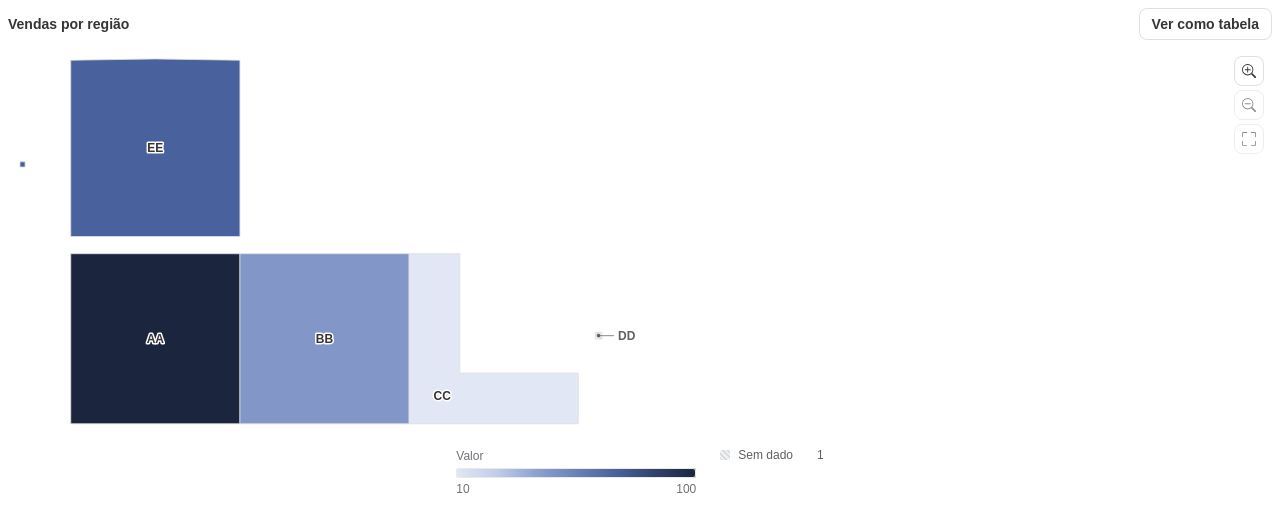
Test: ChartMap › zoomable › aproxima, afasta e volta pelos botoes, anunciando a escala e travando os que nao se aplicam
Expected: the button named "Afastar" is disabled, [1234,90,1264,120]
Expected: the button named "Voltar ao enquadramento" is disabled, [1234,124,1264,154]
What coordinates should you click on to do the following:
click the button named "Aproximar"
I would click on:
 (1249, 71)
Its box is [1234,56,1264,86].
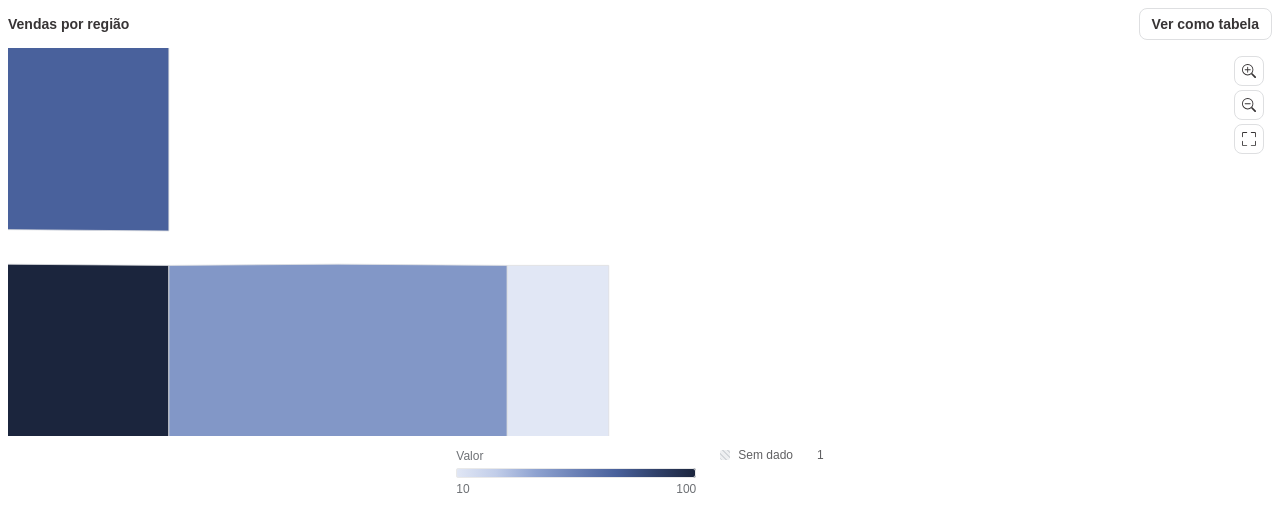
What coordinates should you click on to do the following:
click the button named "Aproximar"
I would click on:
 (1249, 71)
Its box is [1234,56,1264,86].
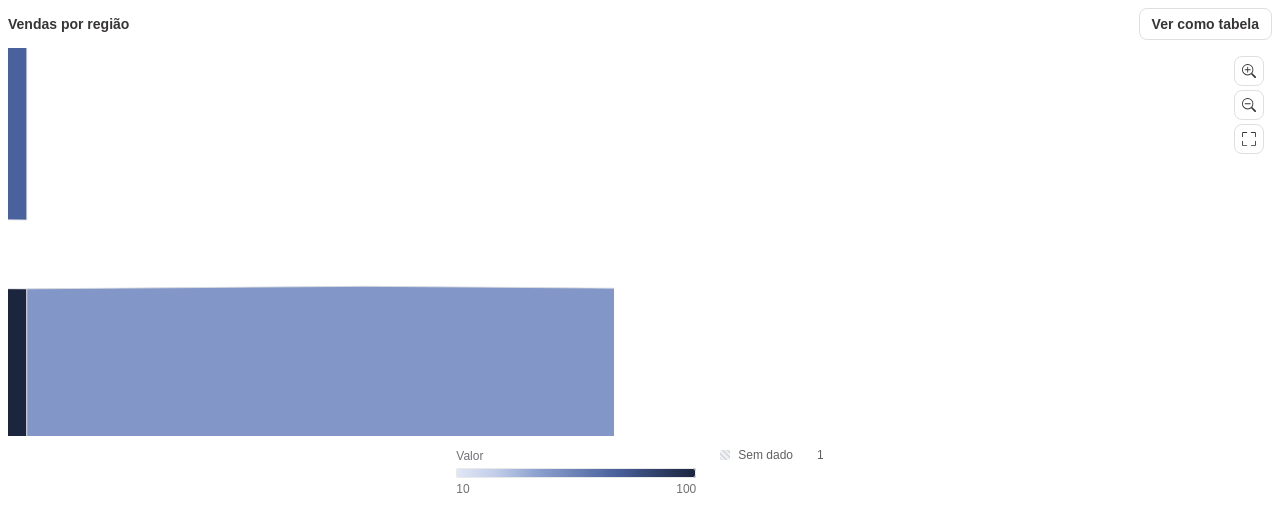
Now the button named "Afastar" is enabled
Now the button named "Voltar ao enquadramento" is enabled, box [1234,124,1264,154]
What coordinates should you click on to do the following:
click the button named "Afastar"
I would click on:
 (1249, 105)
Its box is [1234,90,1264,120].
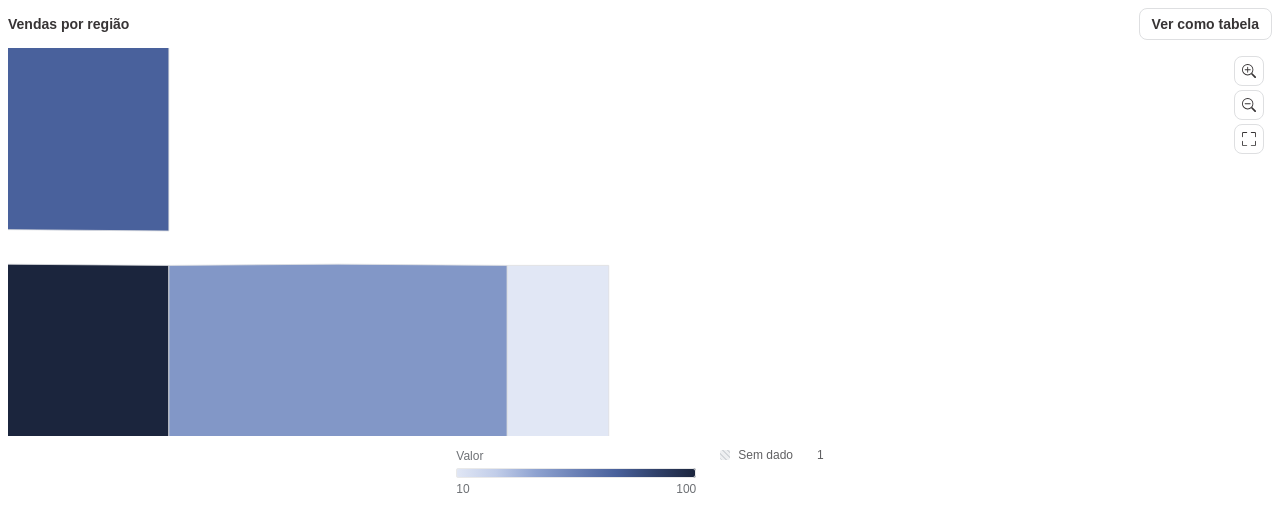
What coordinates should you click on to do the following:
click the button named "Voltar ao enquadramento"
I would click on:
 (1249, 139)
Its box is [1234,124,1264,154].
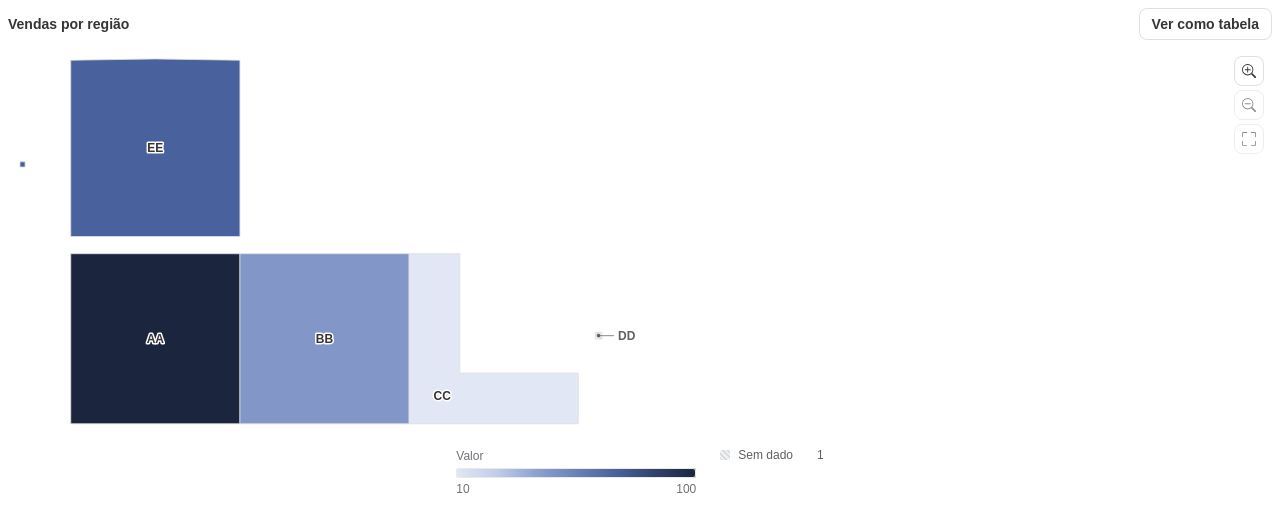
Now the button named "Voltar ao enquadramento" is disabled, box [1234,124,1264,154]
